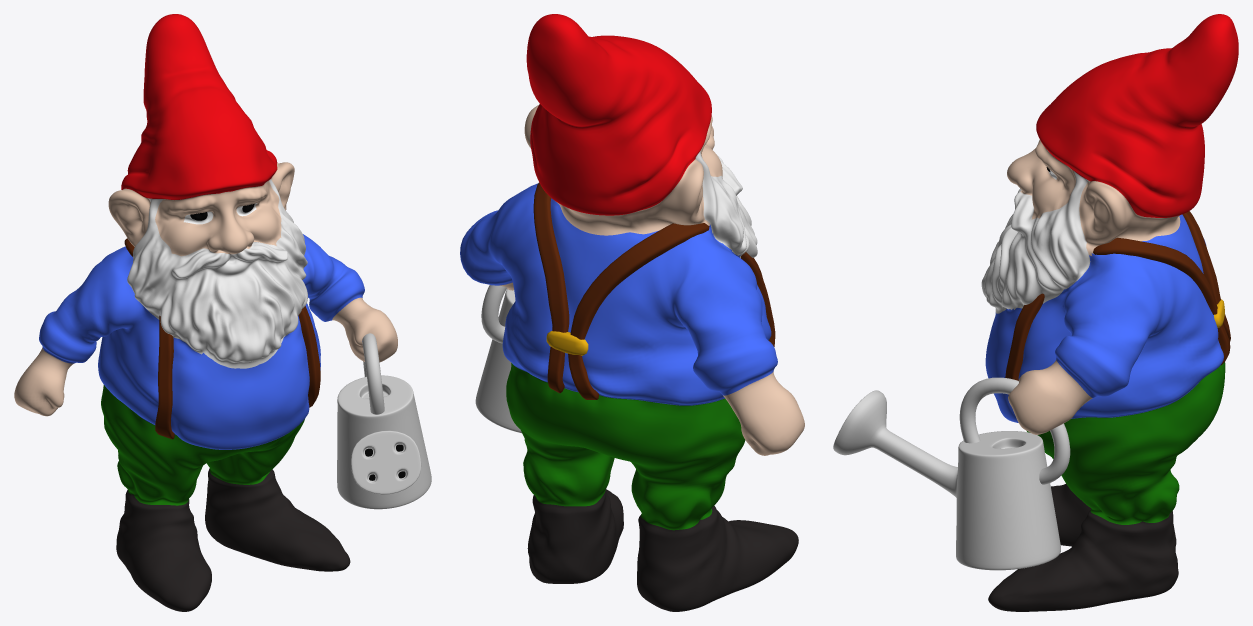
Rendered from Gnome 2.fbx.
The picture shows the model from 3 angles, left to right: view 1: azimuth 30°, elevation 25°; view 2: azimuth 150°, elevation 25°; view 3: azimuth 270°, elevation 25°; orthographic projection. The views are drawn at different scales.
Visible parts, largest first — view 1: Gnome; view 2: Gnome; view 3: Gnome.
Boxes of the visible parts, bbox=[...] form: Gnome: bbox=[14, 14, 431, 611]; Gnome: bbox=[460, 14, 804, 611]; Gnome: bbox=[833, 14, 1238, 611].
Size of the model in its own units: 689 by 977 by 649.
